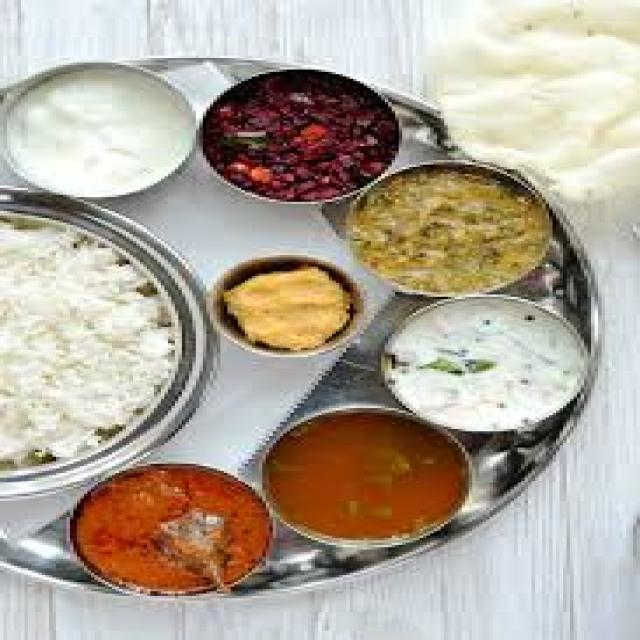curd: (374, 293, 595, 437), (0, 61, 207, 200)
dal: (358, 169, 543, 294)
papad: (418, 9, 638, 167)
rice: (3, 226, 186, 460)
sambar-rasam: (260, 406, 489, 548)
sweet: (208, 256, 381, 357)
veg-fry: (57, 468, 279, 600)
